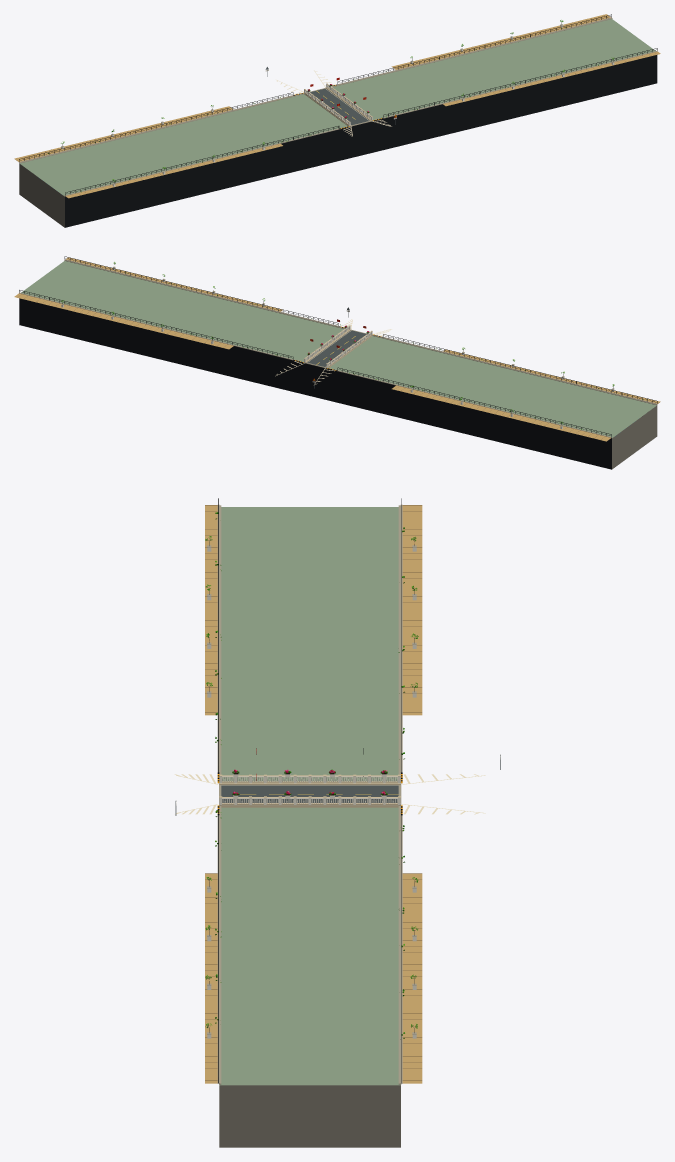
Rendered from PV_RiverBridge.fbx.
3 views of the same model, one above another, from view 1: azimuth 30°, elevation 25°; view 2: azimuth 150°, elevation 25°; view 3: azimuth 270°, elevation 25° (orthographic). The views are drawn at different scales.
Parts seen in each view (by area): view 1: PV_RiverBridge_LOD0; view 2: PV_RiverBridge_LOD0; view 3: PV_RiverBridge_LOD0.
Part boxes in pixels (x1,y1,x2,y2): PV_RiverBridge_LOD0: (14, 14, 660, 227); PV_RiverBridge_LOD0: (14, 256, 660, 469); PV_RiverBridge_LOD0: (174, 498, 500, 1147).
Size of what is drawn, in the model's own units: 190 by 14.77 by 45.33.
